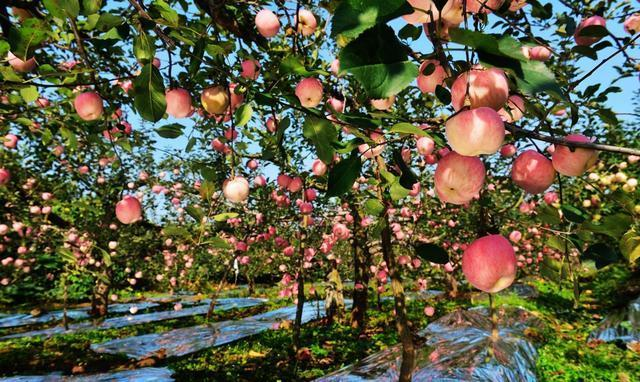apple: (461, 233, 517, 293), (446, 107, 504, 158), (451, 67, 509, 112), (435, 152, 485, 202), (551, 133, 600, 175), (511, 149, 556, 193), (416, 58, 448, 95), (165, 87, 195, 118), (74, 90, 104, 119), (200, 84, 229, 114), (295, 77, 323, 107), (113, 196, 141, 225), (223, 175, 249, 203)
